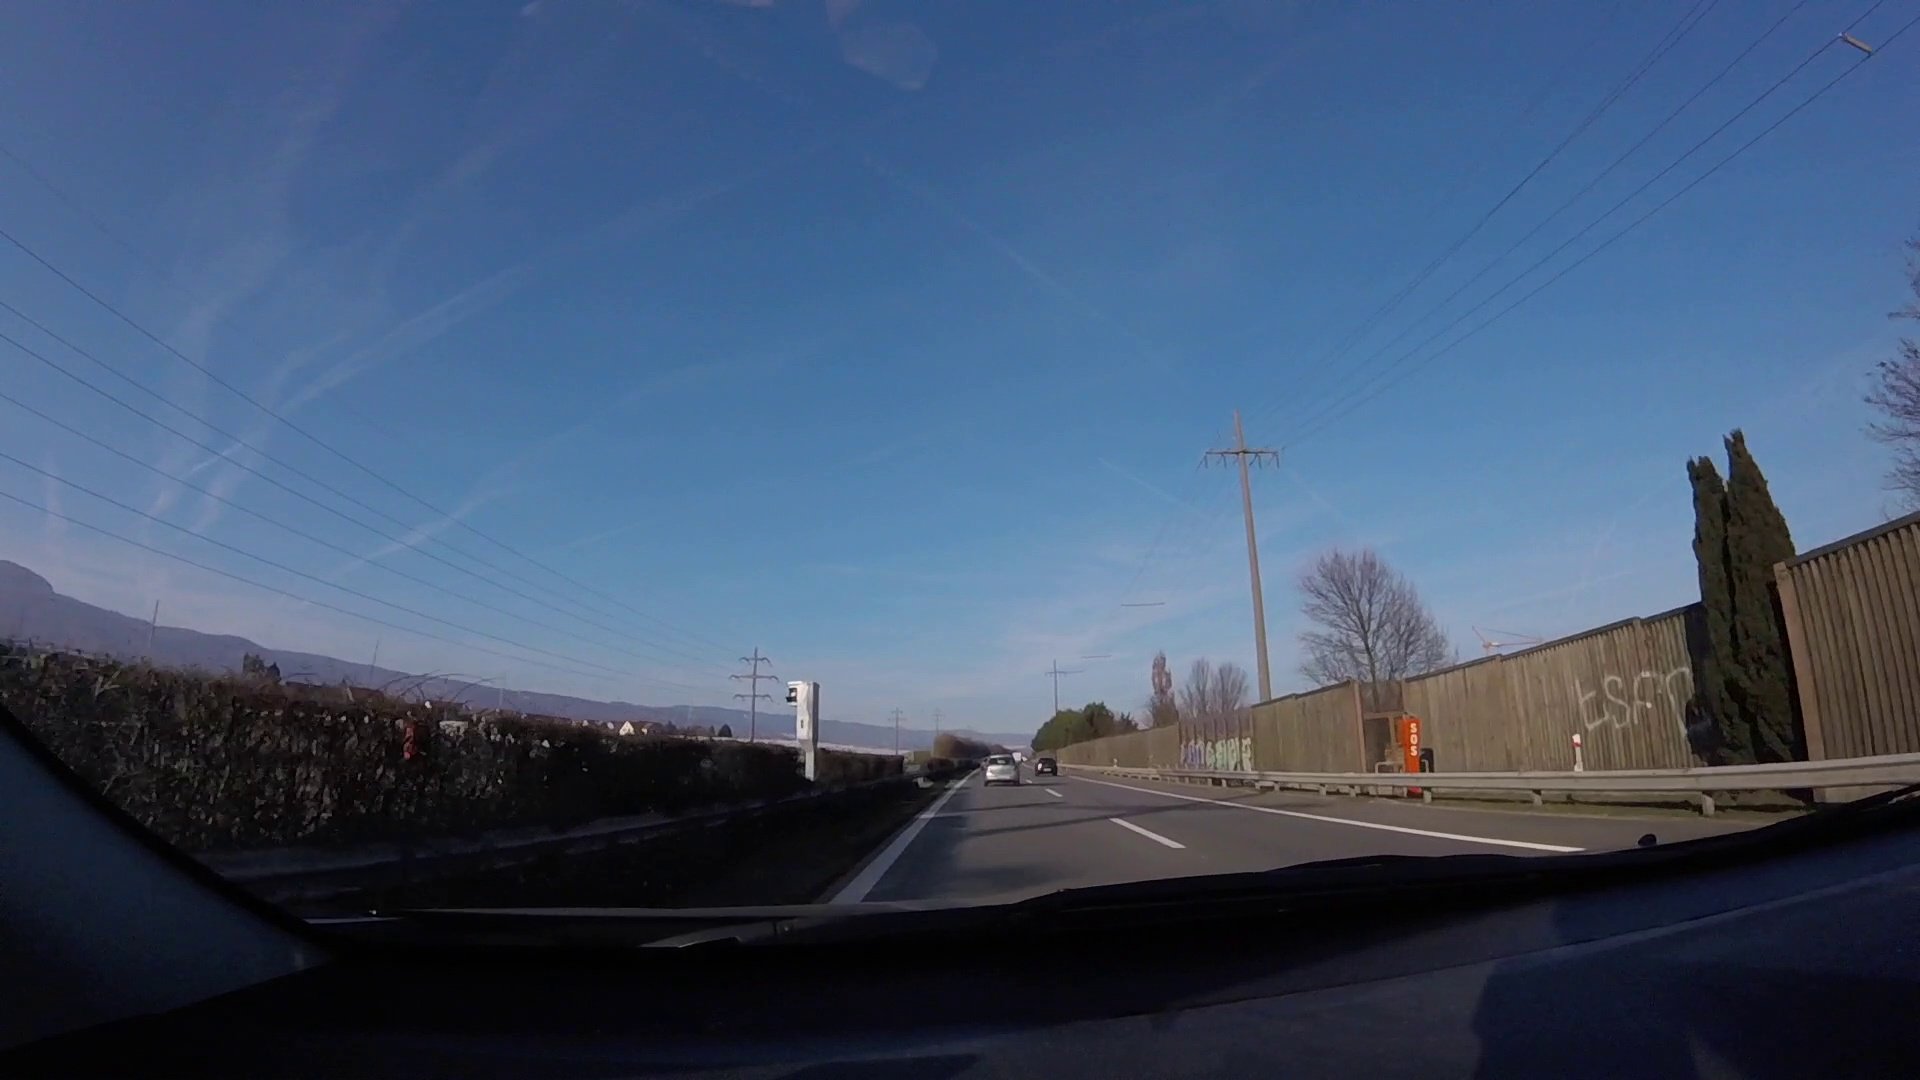radar: (785, 679, 824, 785)
